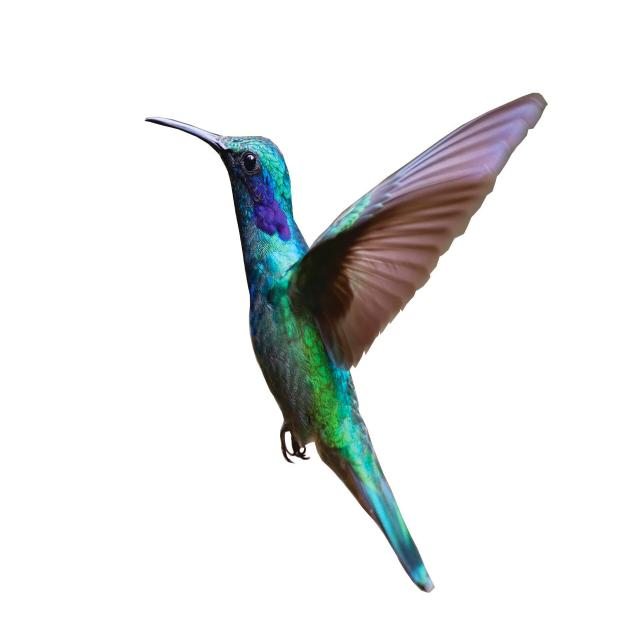hummingbird: (147, 94, 546, 591)
